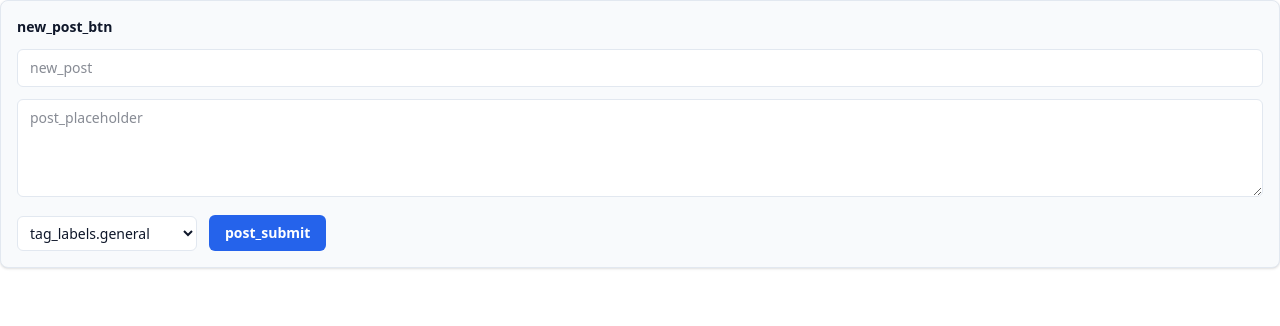
Test case: NewPostForm › shows 'Pro-Mitglieder' error on 403 response
Type "T" into the field with placeholder "new_post" at (640, 68), box [17,49,1263,87]
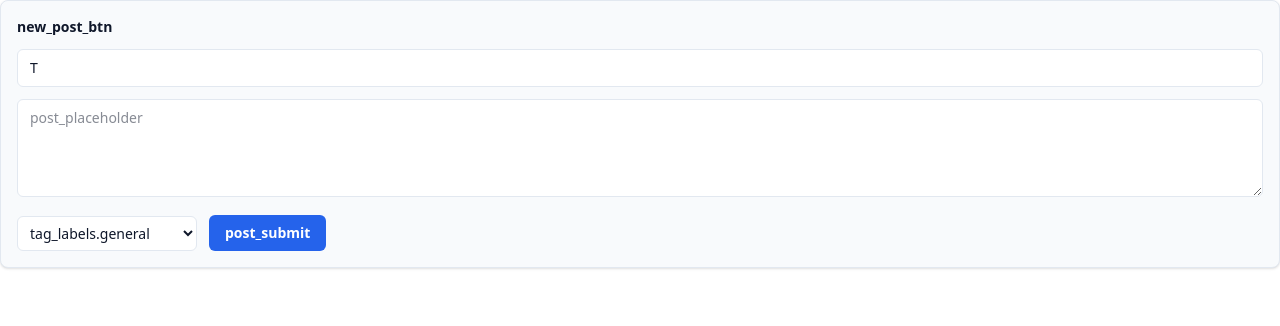
Type "C" into the text box with placeholder "post_placeholder" at (640, 148), box [17,99,1263,197]
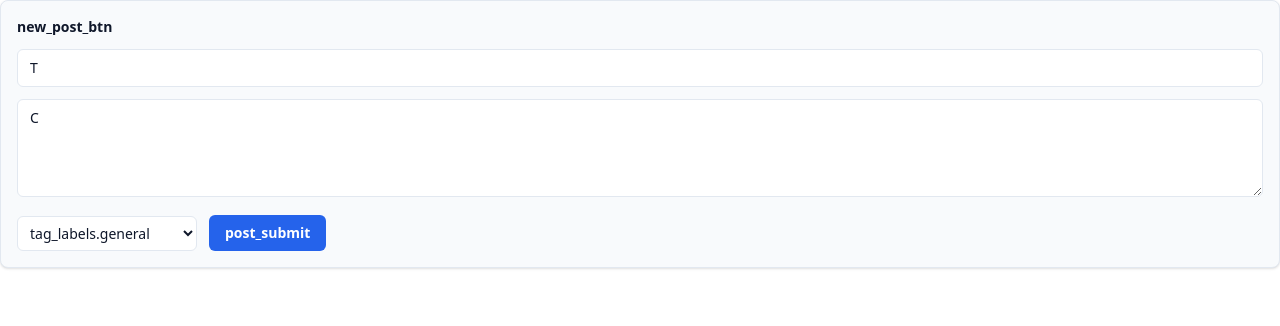
Click the button "post_submit" at (268, 233), box [209,215,326,251]
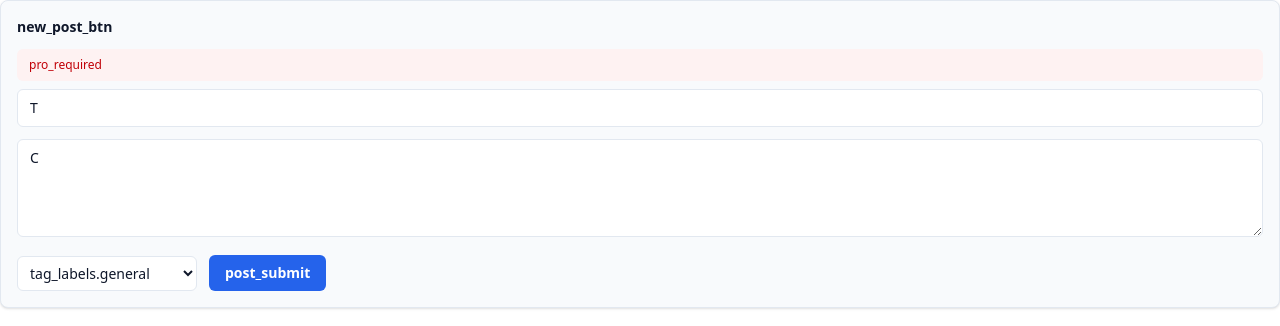
Now the text "pro_required" is shown, box [17,49,1263,81]
